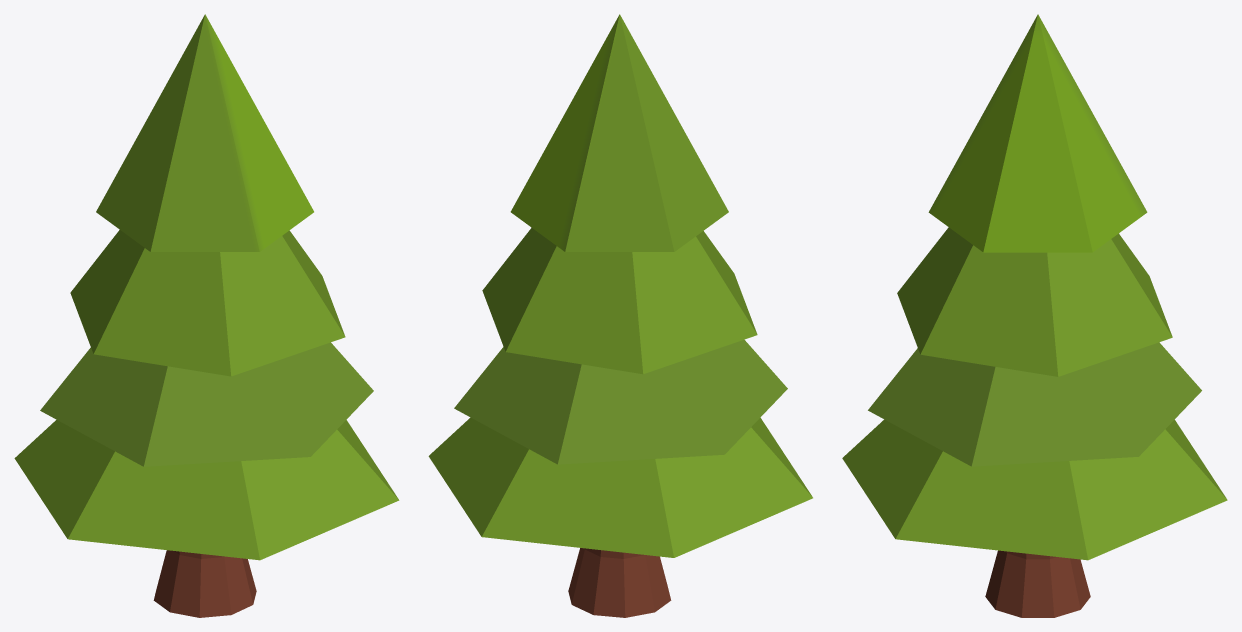
File: PineTree.glb
The picture shows the model from 3 angles, left to right: view 1: azimuth 30°, elevation 25°; view 2: azimuth 150°, elevation 25°; view 3: azimuth 270°, elevation 25°; orthographic projection.
Visible parts, largest first — view 1: Pine_Tree_01; view 2: Pine_Tree_01; view 3: Pine_Tree_01.
Part boxes in pixels (x1,y1,x2,y2): Pine_Tree_01: (14,14,399,617); Pine_Tree_01: (428,14,812,617); Pine_Tree_01: (842,14,1227,617).
Bounding box in the file's own units: 3.51 × 5.87 × 3.52.
Materials: 1 (1 with a texture image).
